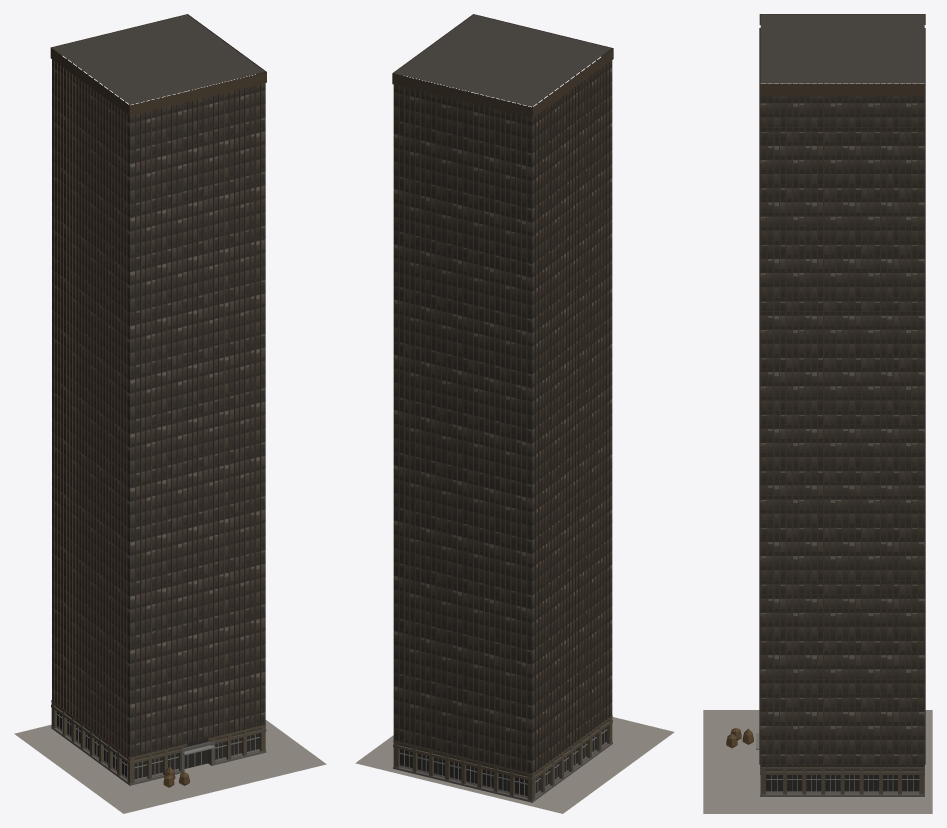
File: safeco_plaza.glb
3 views of the same model, side by side, from view 1: azimuth 30°, elevation 25°; view 2: azimuth 150°, elevation 25°; view 3: azimuth 270°, elevation 25° (orthographic). The views are drawn at different scales.
Visible parts, largest first — view 1: safeco_plaza; view 2: safeco_plaza; view 3: safeco_plaza.
Part boxes in pixels (left/top/right/bottom): safeco_plaza: left=14, top=14, right=326, bottom=813; safeco_plaza: left=355, top=14, right=674, bottom=813; safeco_plaza: left=703, top=14, right=932, bottom=813.
Bounding box in the file's own units: 60.01 × 192 × 56.
Materials: 2 (2 with a texture image).
